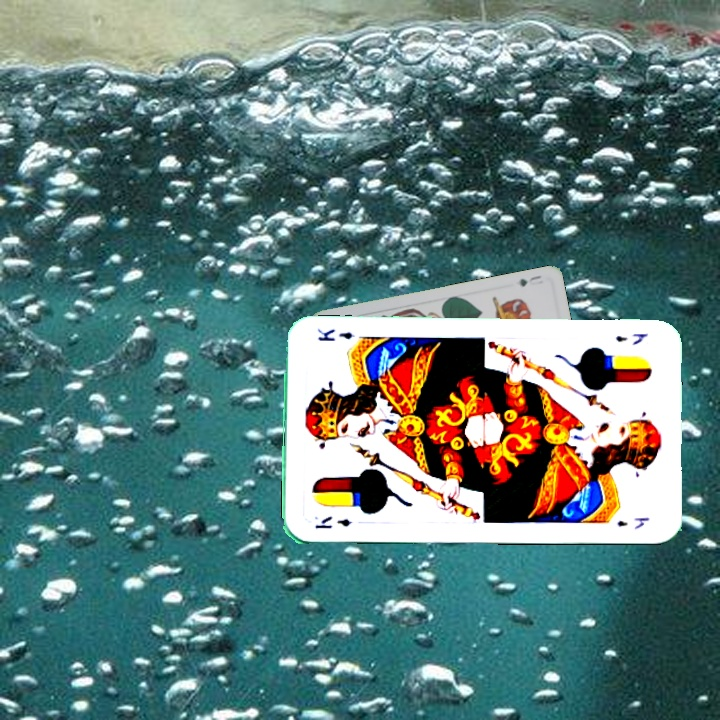EK: (311, 512, 354, 531), (612, 330, 651, 348)
GU: (514, 271, 544, 289)
